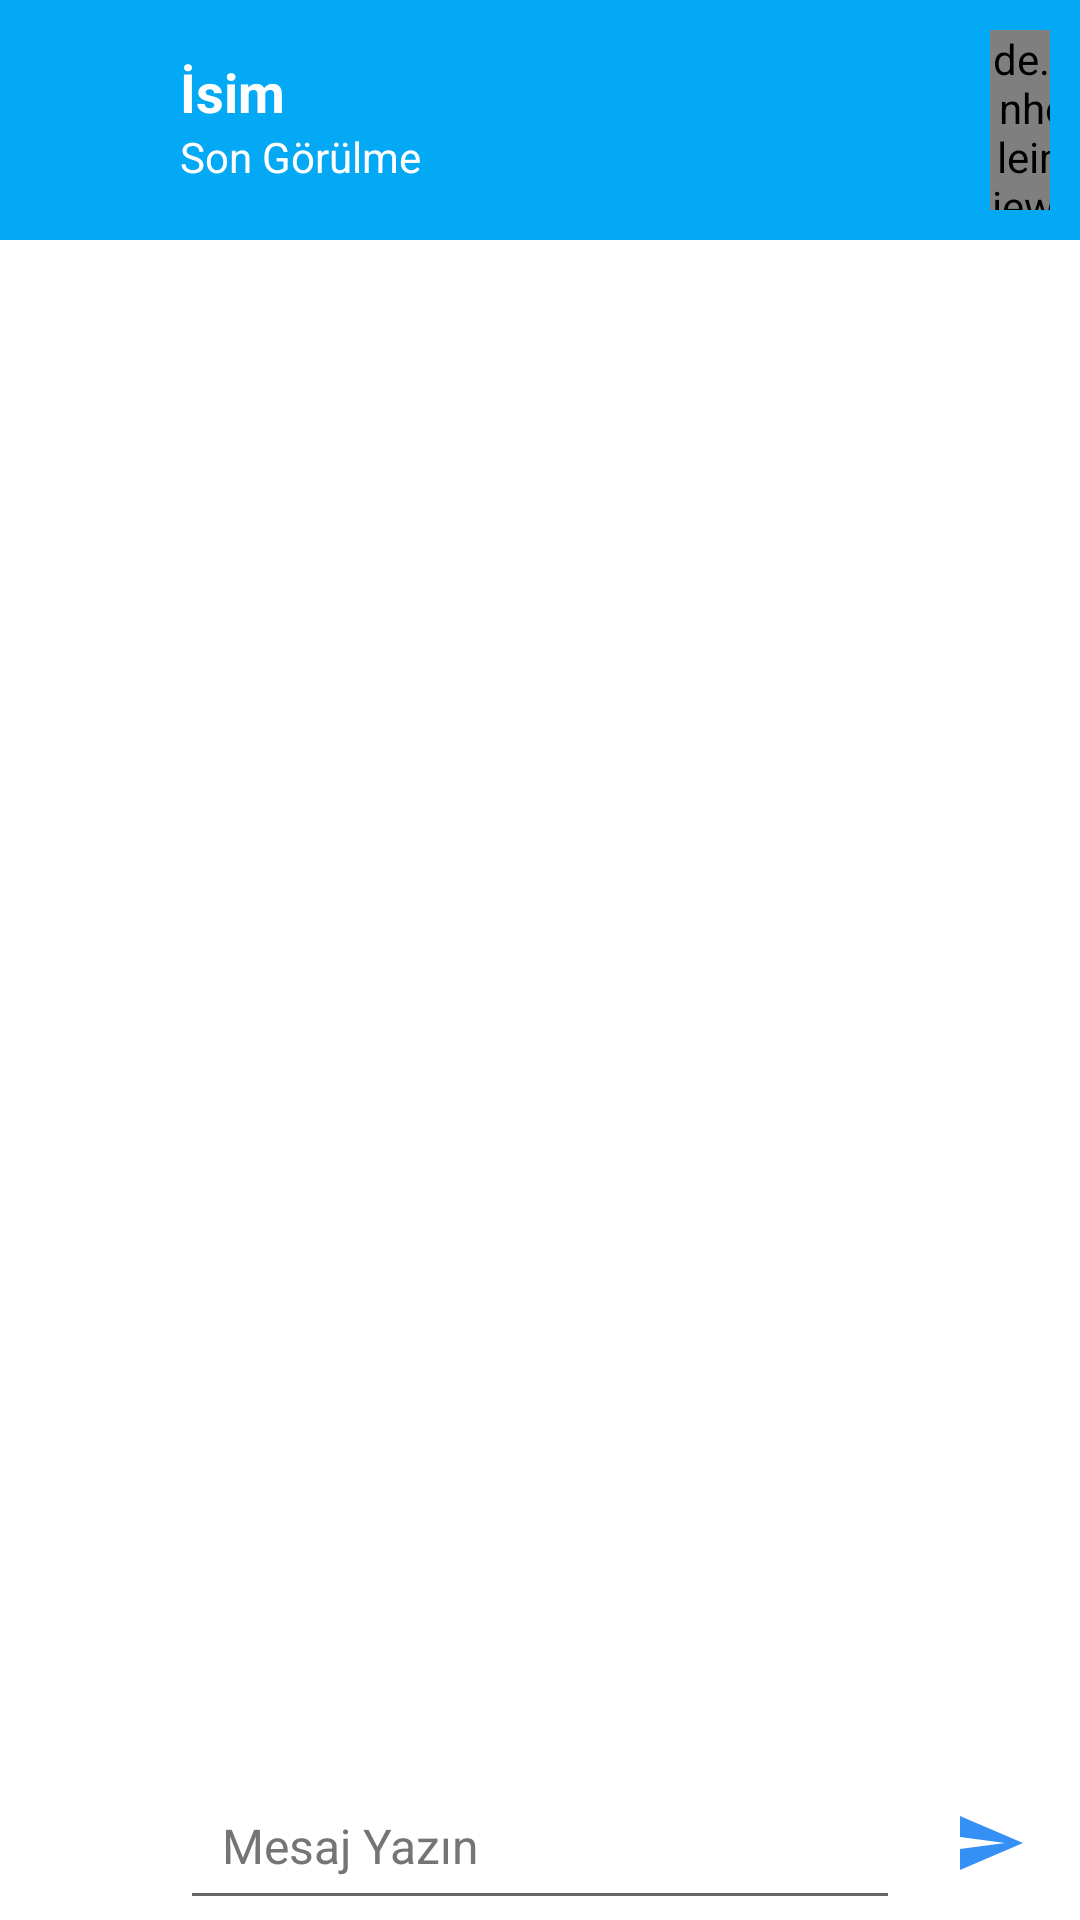

Screen size 1080×1920. Icon name, then its center in pixels as (x=x, y=y):
send: (x=991, y=1843)
